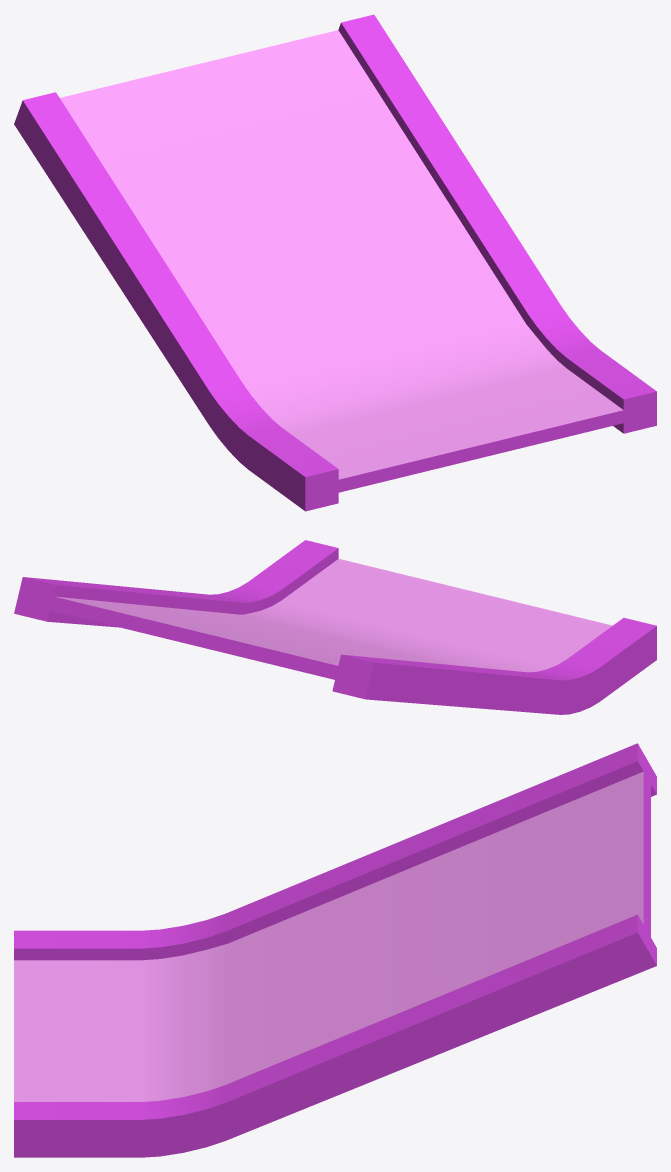
The model's file is Ground4.fbx.
3 views of the same model, one above another, from view 1: azimuth 30°, elevation 25°; view 2: azimuth 150°, elevation 25°; view 3: azimuth 270°, elevation 25° (orthographic). The views are drawn at different scales.
Visible parts, largest first — view 1: Cube.023; view 2: Cube.023; view 3: Cube.023.
Boxes of the visible parts, x1,y1,x2,y2 form: Cube.023: (14,14,656,511); Cube.023: (14,540,656,714); Cube.023: (14,743,656,1157).
Size of the model in its own units: 6.28 by 9.01 by 3.48.
